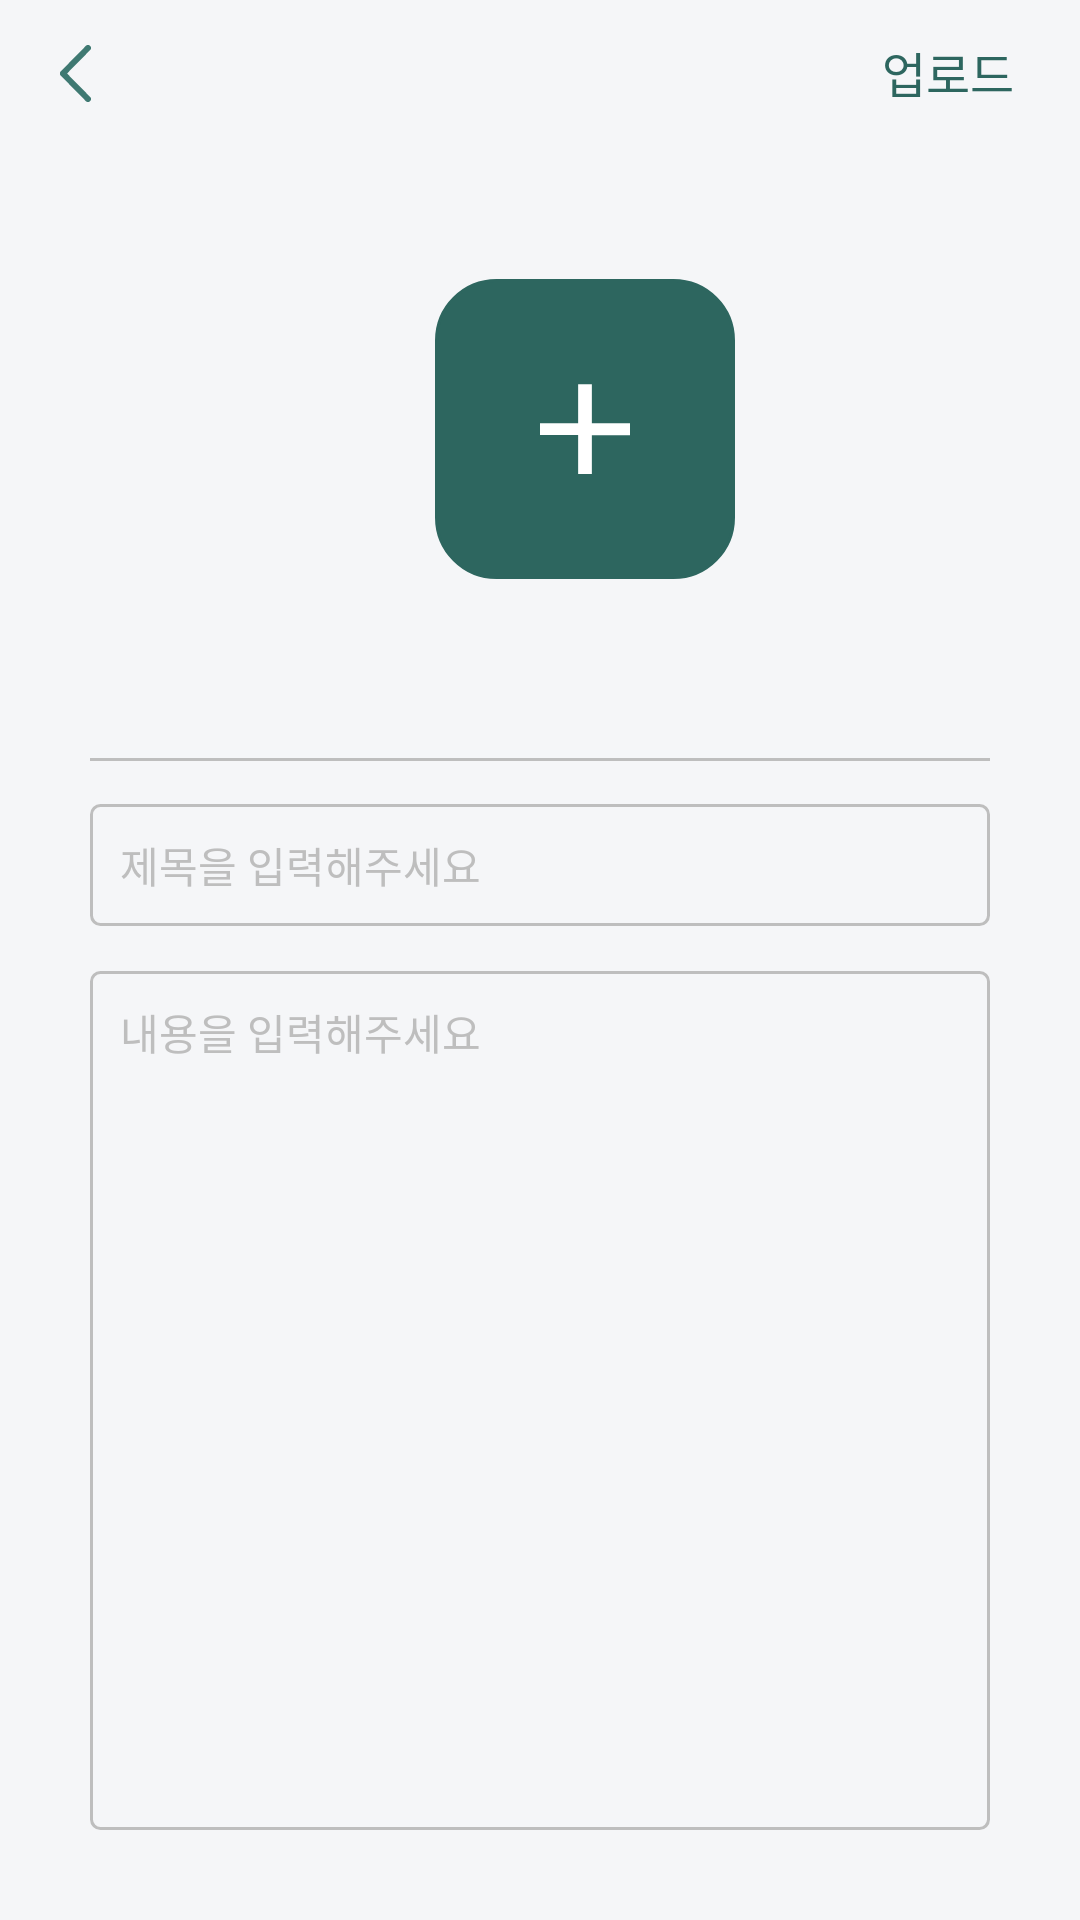

Locate icon controls on the screen. Image size 1080 × 1920, boxes as rect(x1, y1, x2, y2).
add: rect(435, 279, 735, 579)
back: rect(60, 45, 91, 102)
